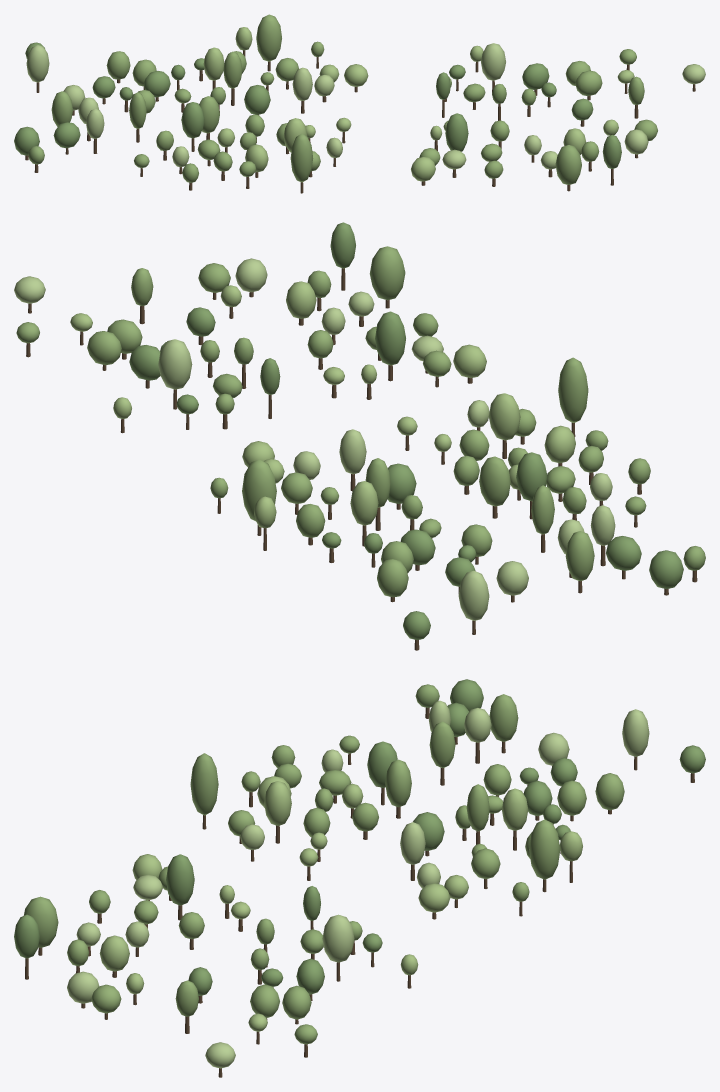
Rendered from washington-square-trees.glb.
3 renders of one model, top to bottom at view 1: azimuth 30°, elevation 25°; view 2: azimuth 150°, elevation 25°; view 3: azimuth 270°, elevation 25°, orthographic. The views are drawn at different scales.
Size of the model in its own units: 289 by 27.64 by 229.
